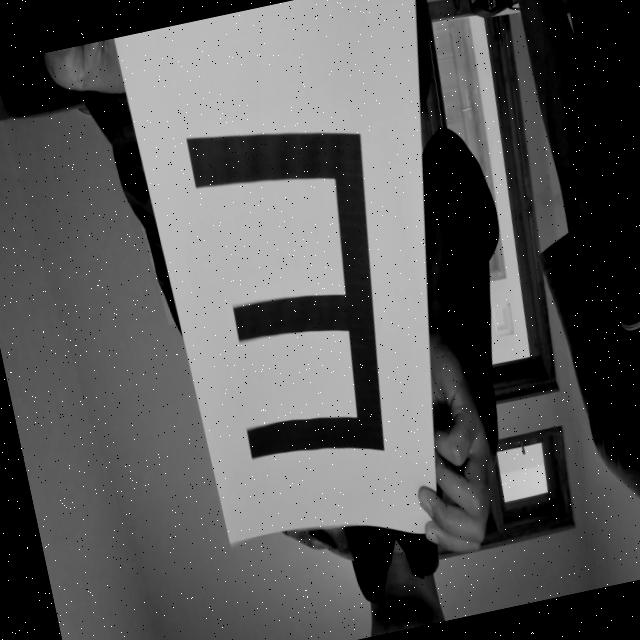e: (160, 74, 434, 502)
